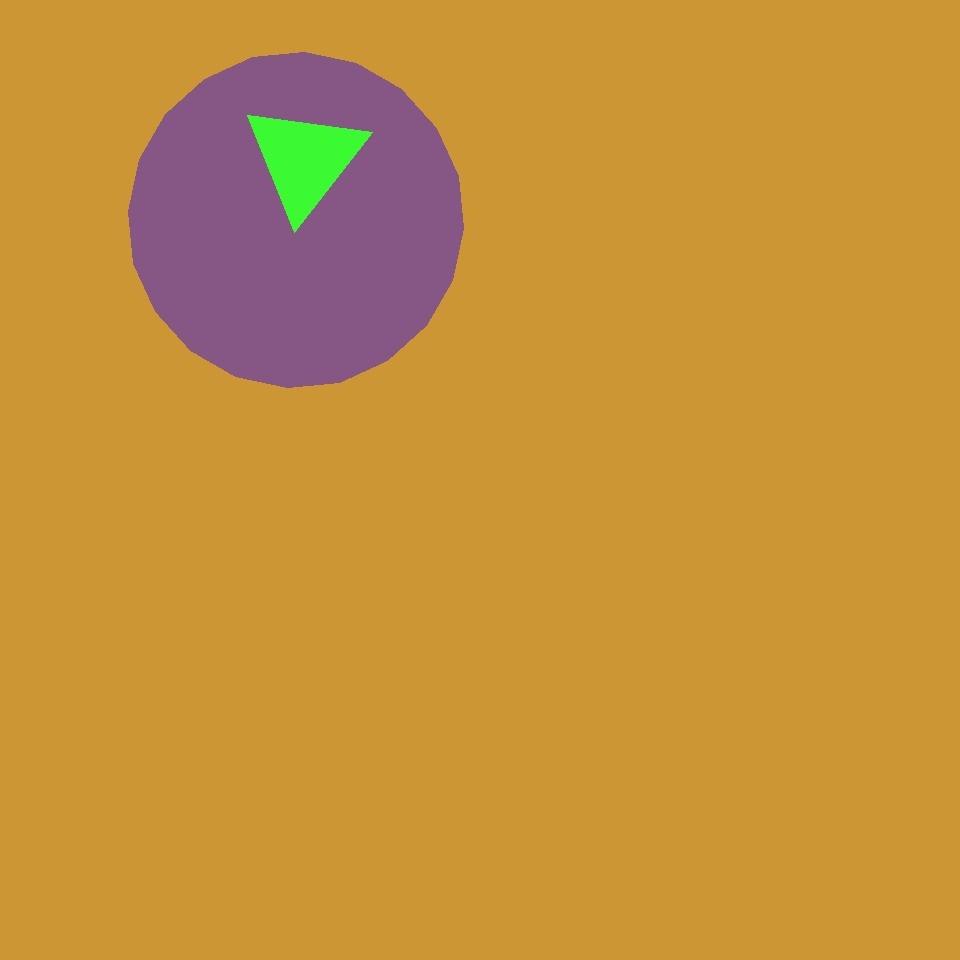circle: (242, 101, 368, 218)
square: (228, 633, 368, 773)
triangle: (554, 210, 924, 581), (446, 41, 794, 389), (129, 52, 464, 388), (126, 677, 277, 828)
